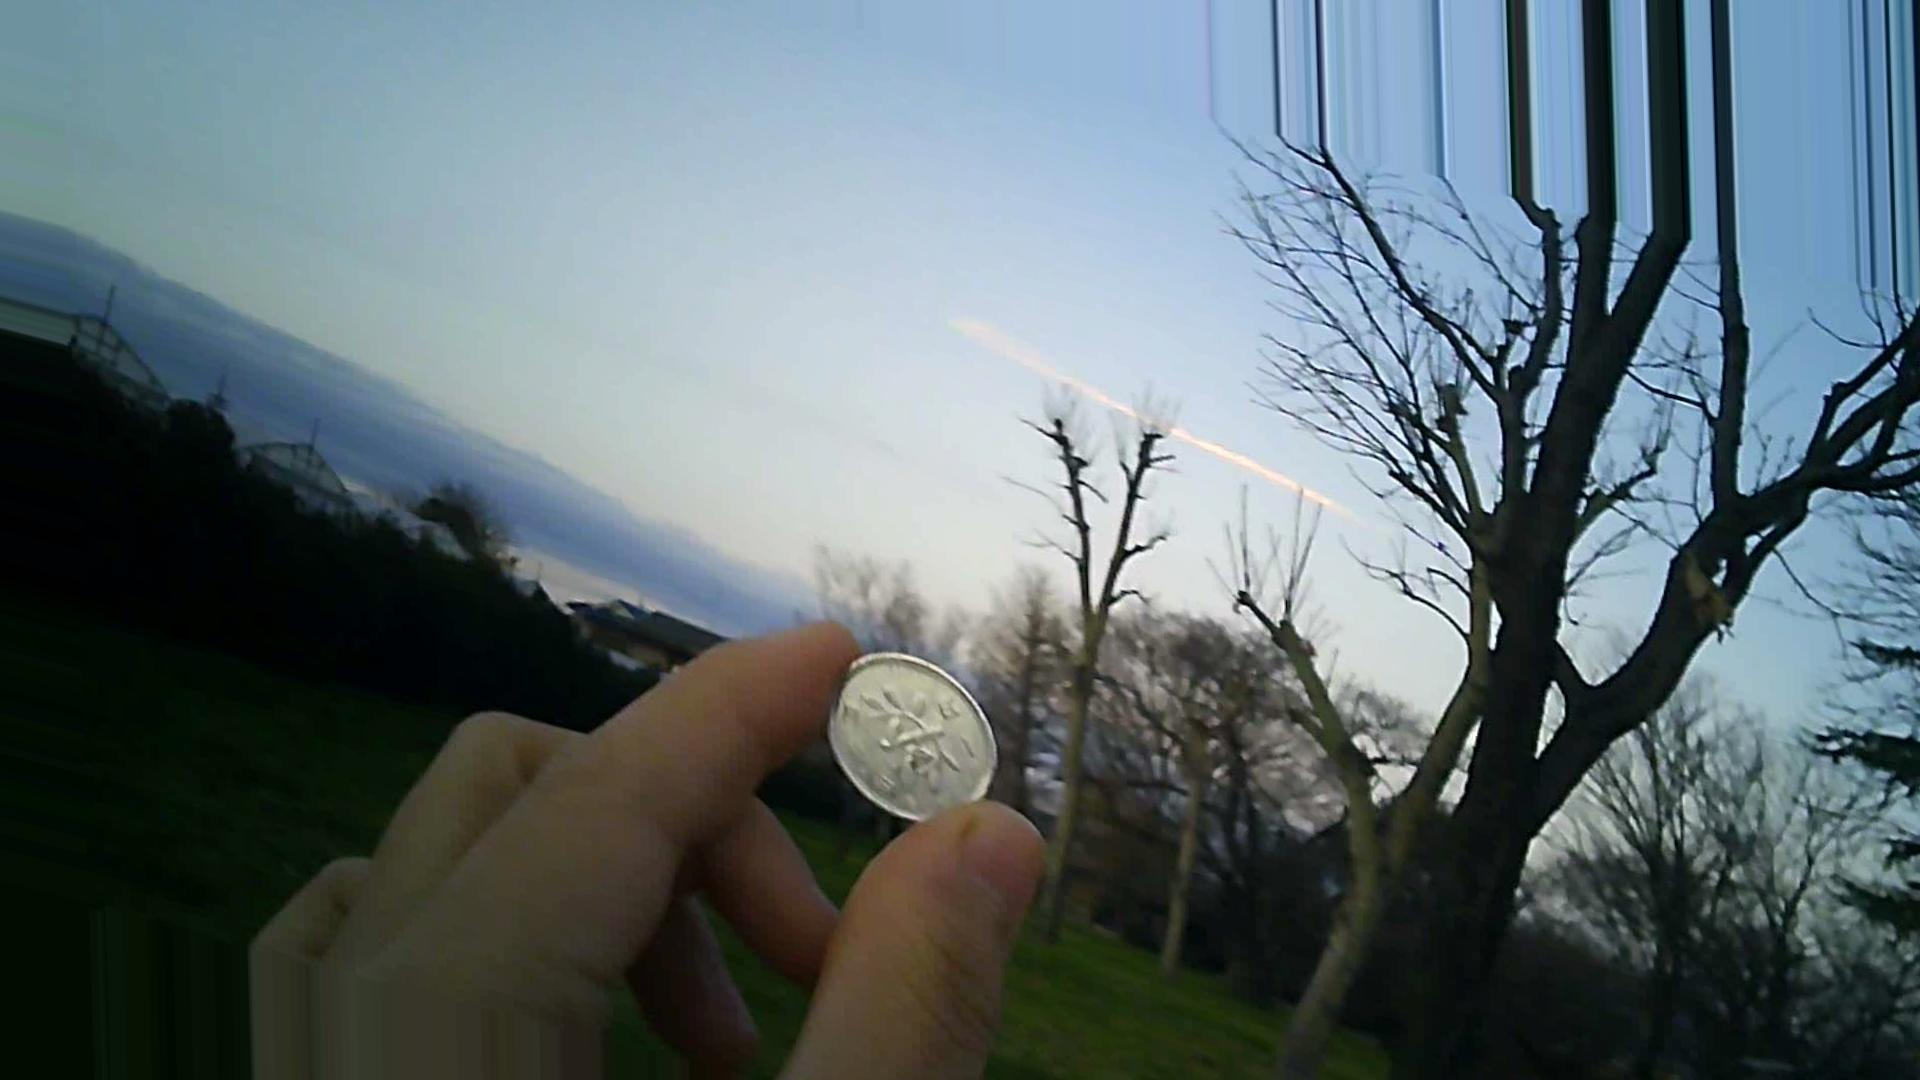1 Yen: (823, 651, 997, 812)
